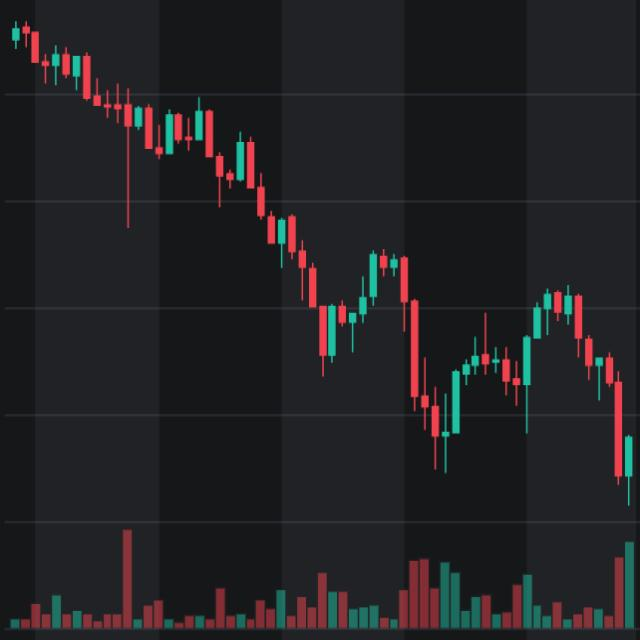Channel-down: (0, 4, 633, 557)
